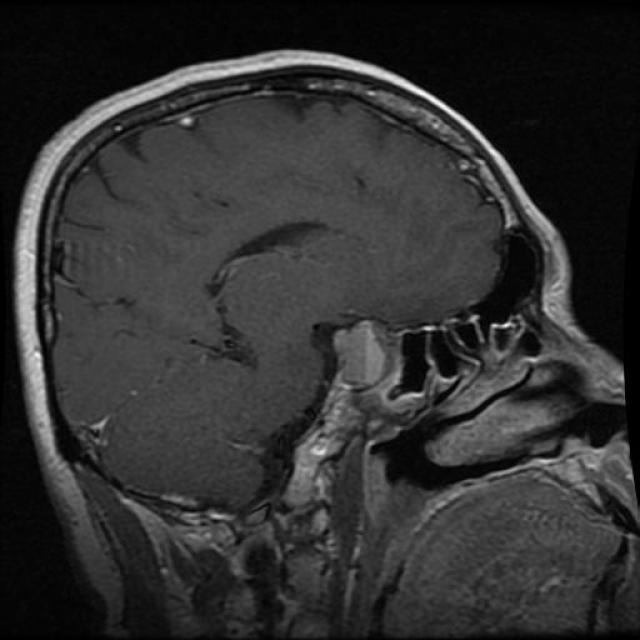no_tumor: (332, 319, 387, 385)
